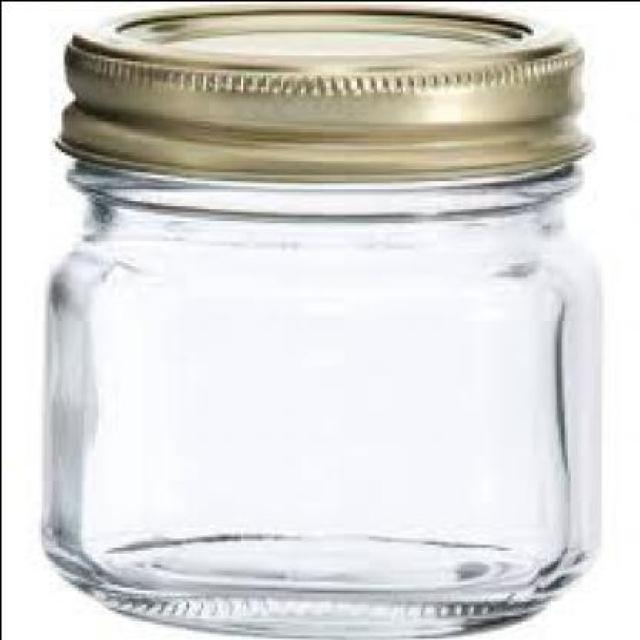GLASS: (40, 157, 603, 637)
METAL: (59, 2, 596, 165)
